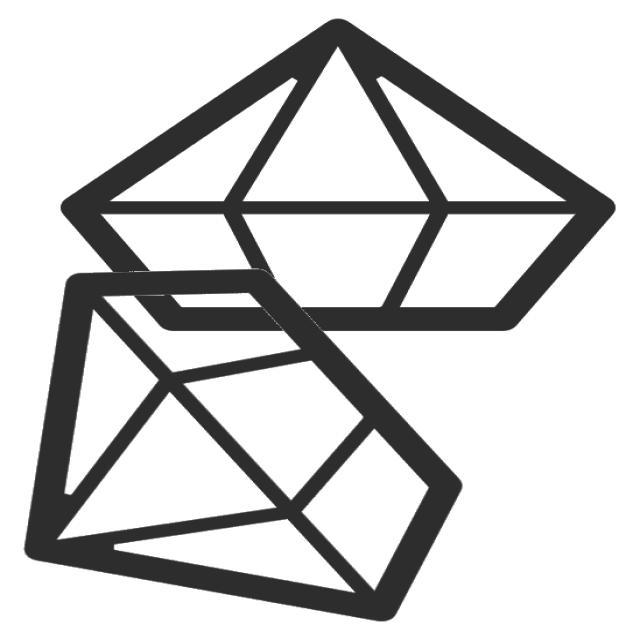diamond: (55, 10, 624, 339), (20, 258, 471, 630)
